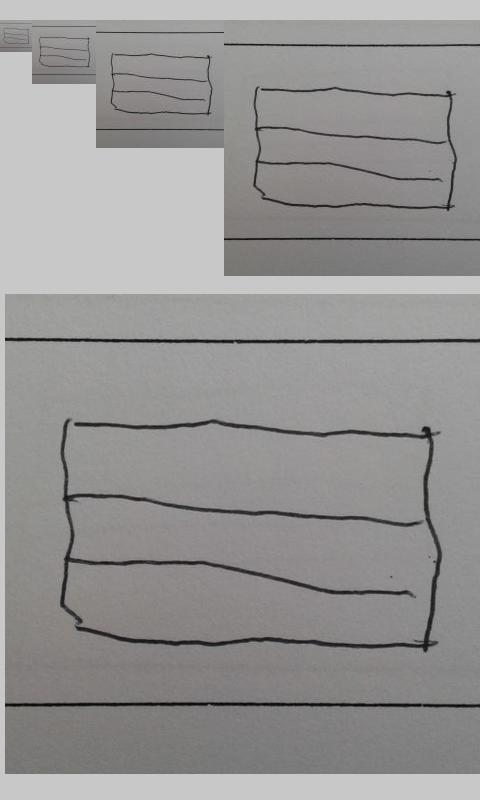list_view: (57, 417, 444, 657), (251, 86, 459, 213), (109, 51, 214, 116), (38, 36, 91, 68), (2, 27, 30, 45)
